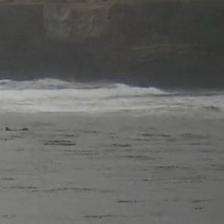surfer: (4, 126, 30, 131)
